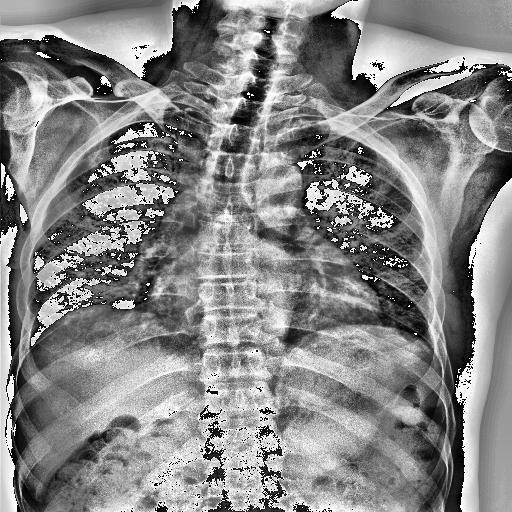0- Aortic enlargement: (242, 155, 308, 219), (241, 148, 302, 204)
11- Pleural thickening: (305, 116, 373, 144), (119, 101, 185, 124), (140, 92, 216, 110), (288, 118, 326, 128)
13- Pulmonary fibrosis: (83, 145, 126, 188)
3- Cardiomegaly: (142, 266, 384, 333), (138, 258, 382, 322), (146, 282, 382, 332)
5- ILD: (274, 132, 436, 331), (38, 144, 177, 312), (42, 154, 168, 323), (315, 150, 429, 336), (44, 164, 173, 319), (312, 162, 428, 332)
